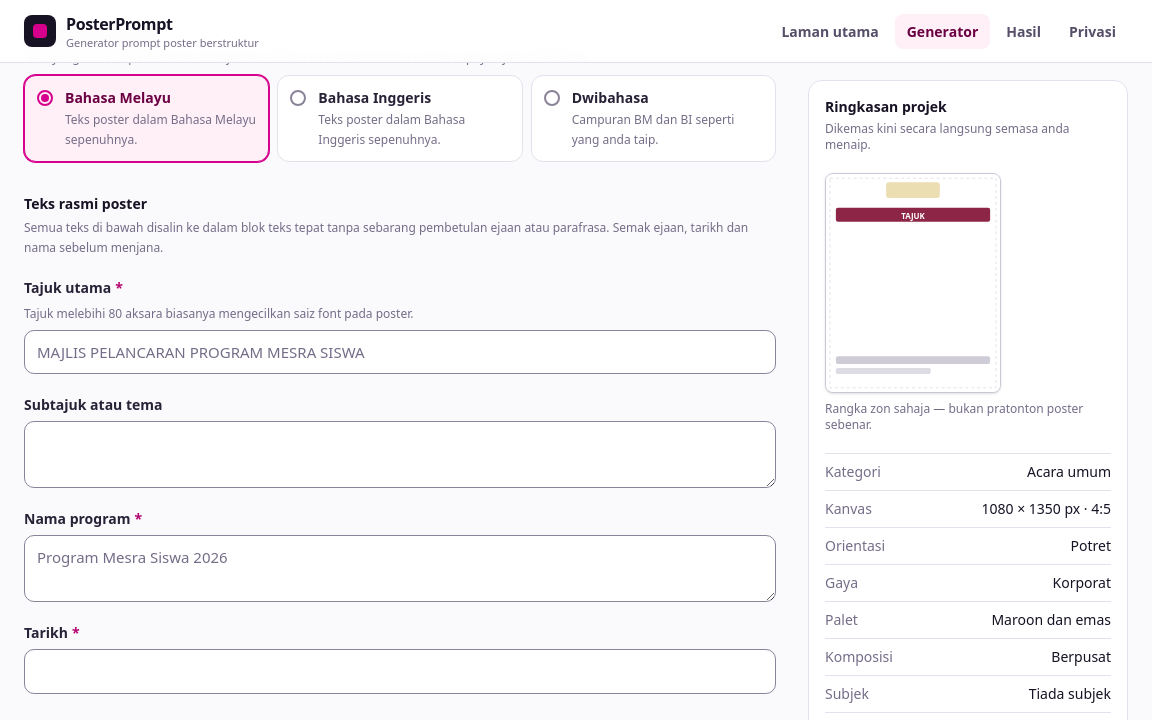
Test: wizard — pratonton zon di langkah susun atur (FR-023) › memaparkan pratonton zon bersebelahan pilihan komposisi
(page scrolled)
Type "MAJLIS PERASMIAN" into the field labelled "Tajuk utama*" at [400, 352], box [24,330,776,374]
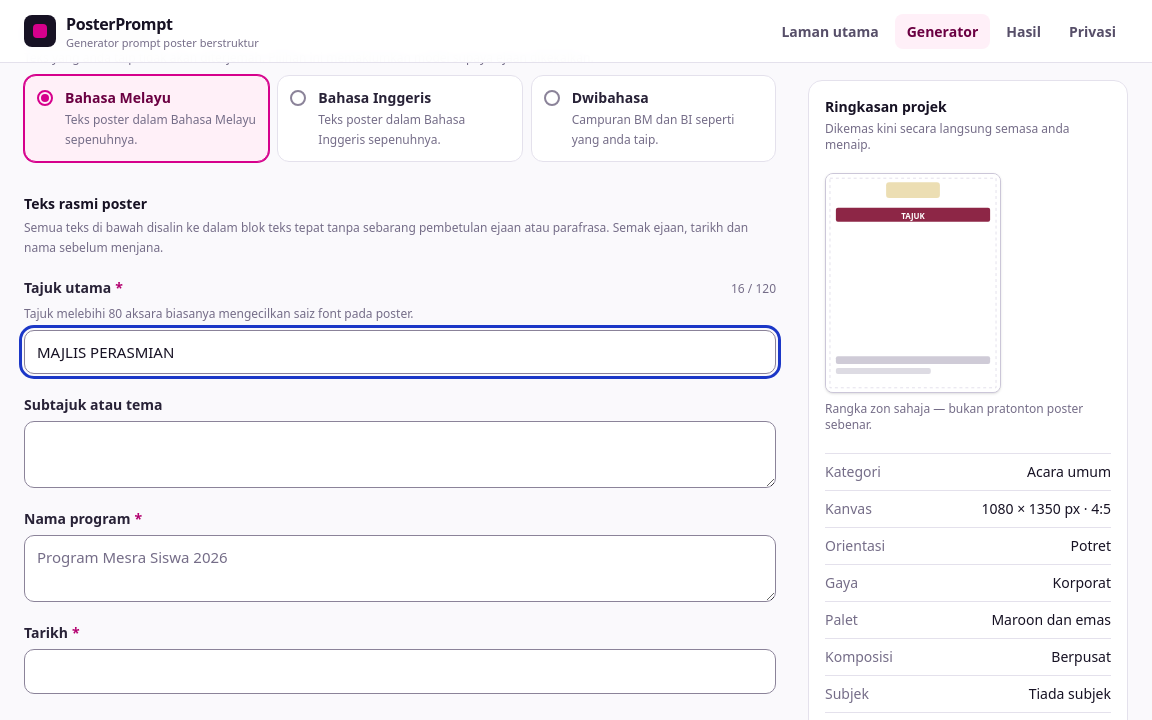
Type "Program Mesra Siswa" into the text box labelled "Nama program*" at [400, 569], box [24,535,776,602]
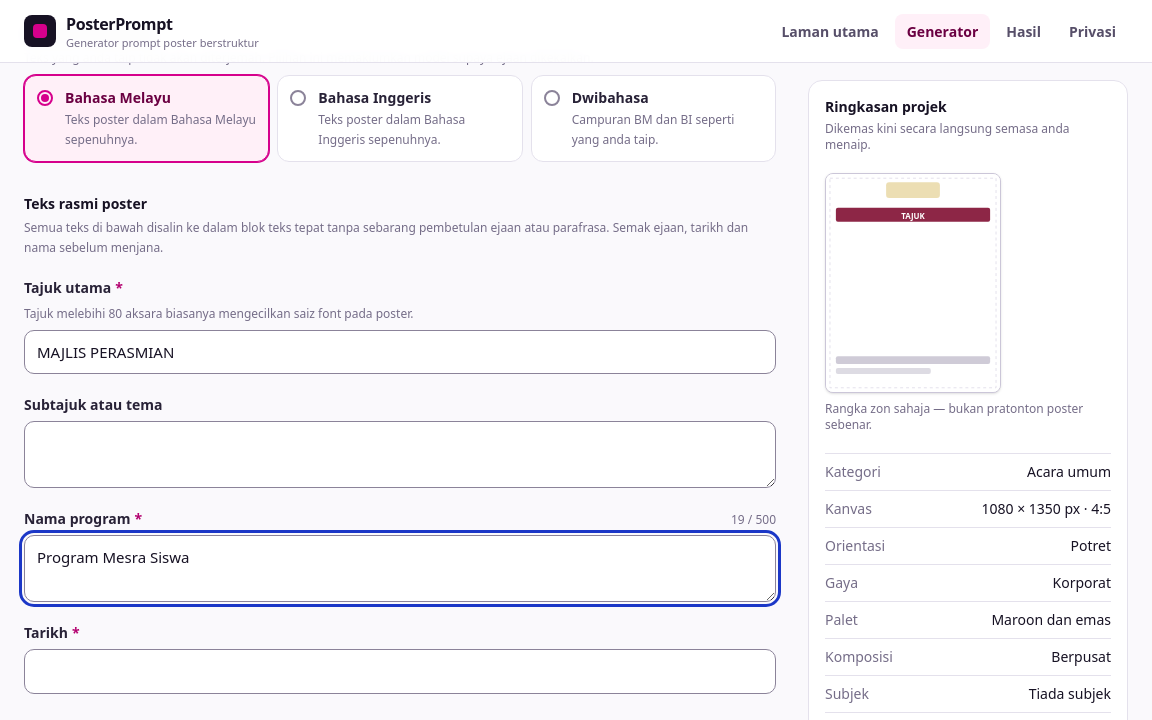
Type "1 September 2026" into the field labelled "Tarikh*" at [400, 672], box [24,649,776,694]
(page scrolled)
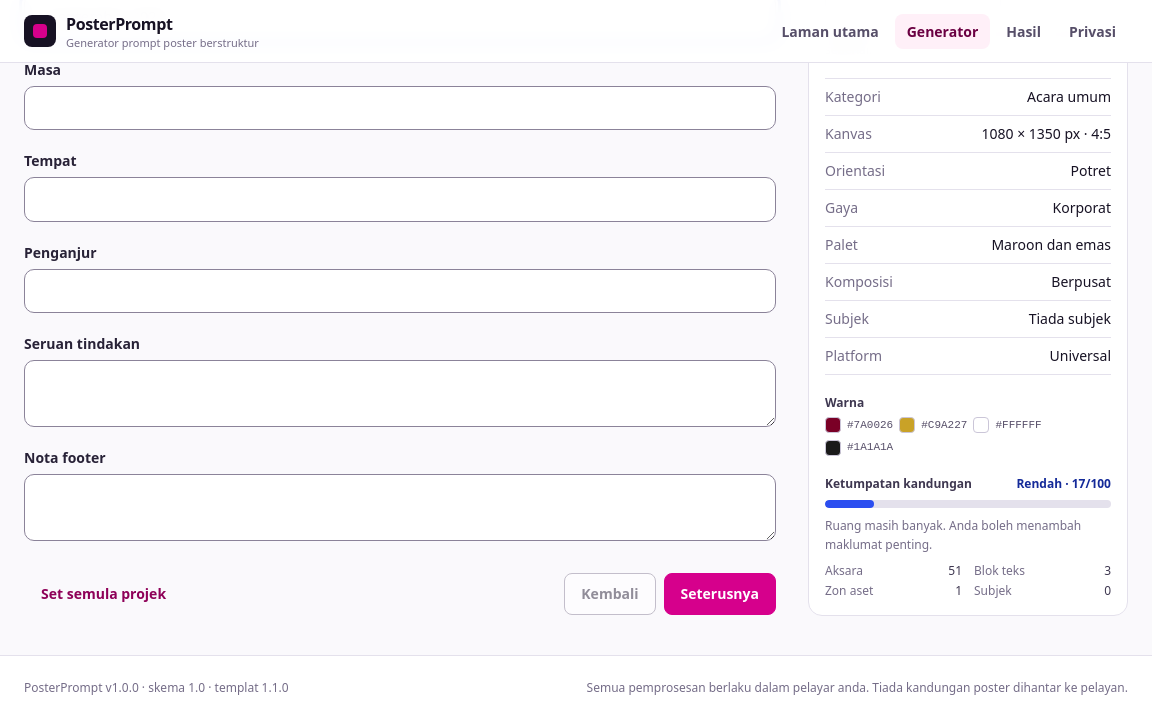
Click the button "Seterusnya" at [720, 594], box [664,573,776,615]
(page scrolled)
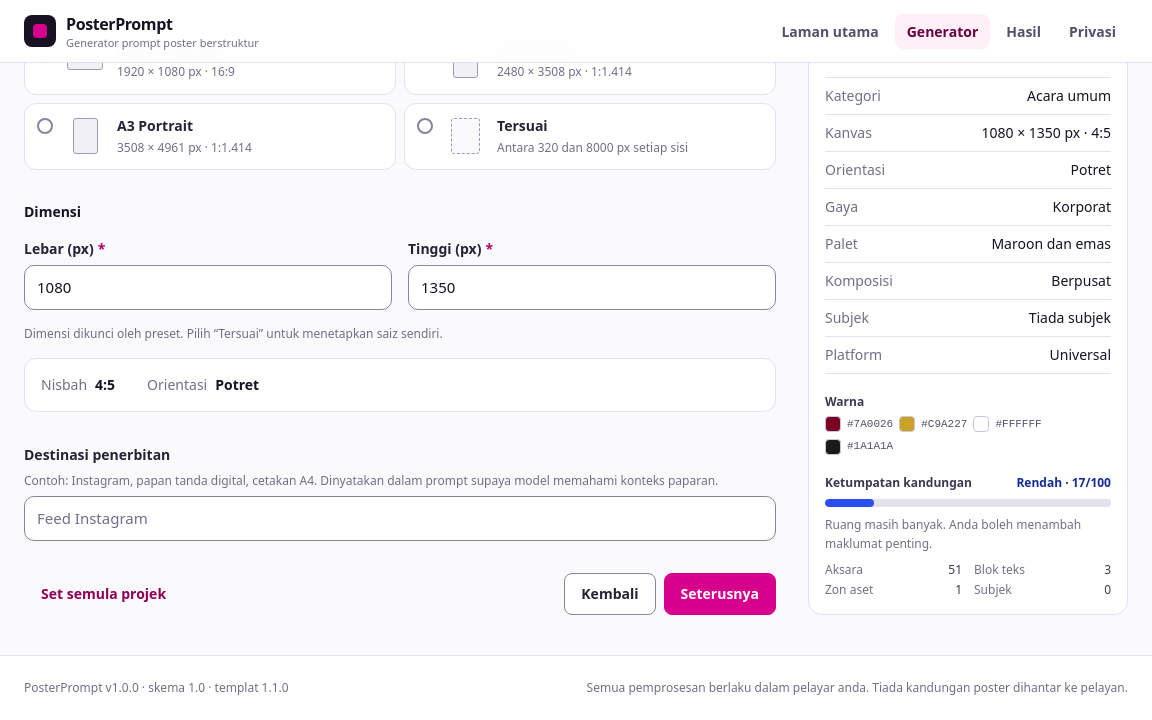
Click the button "Seterusnya" at [720, 594], box [664,573,776,615]
(page scrolled)
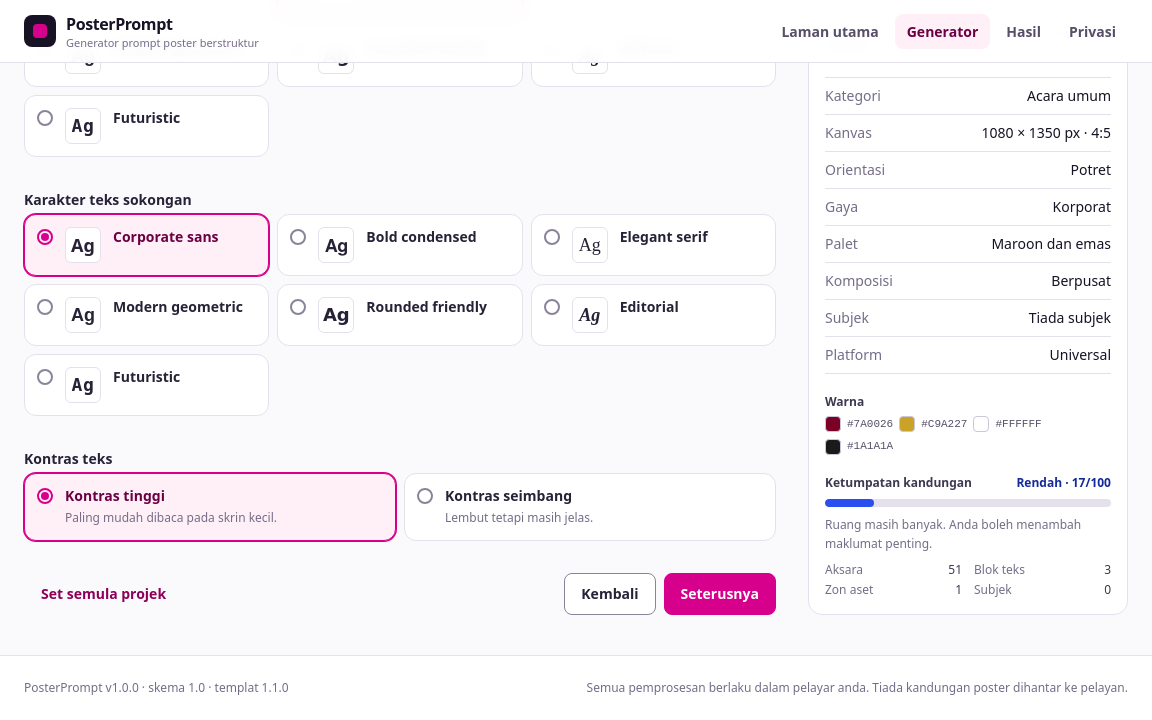
Click the button "Seterusnya" at [720, 594], box [664,573,776,615]
(page scrolled)
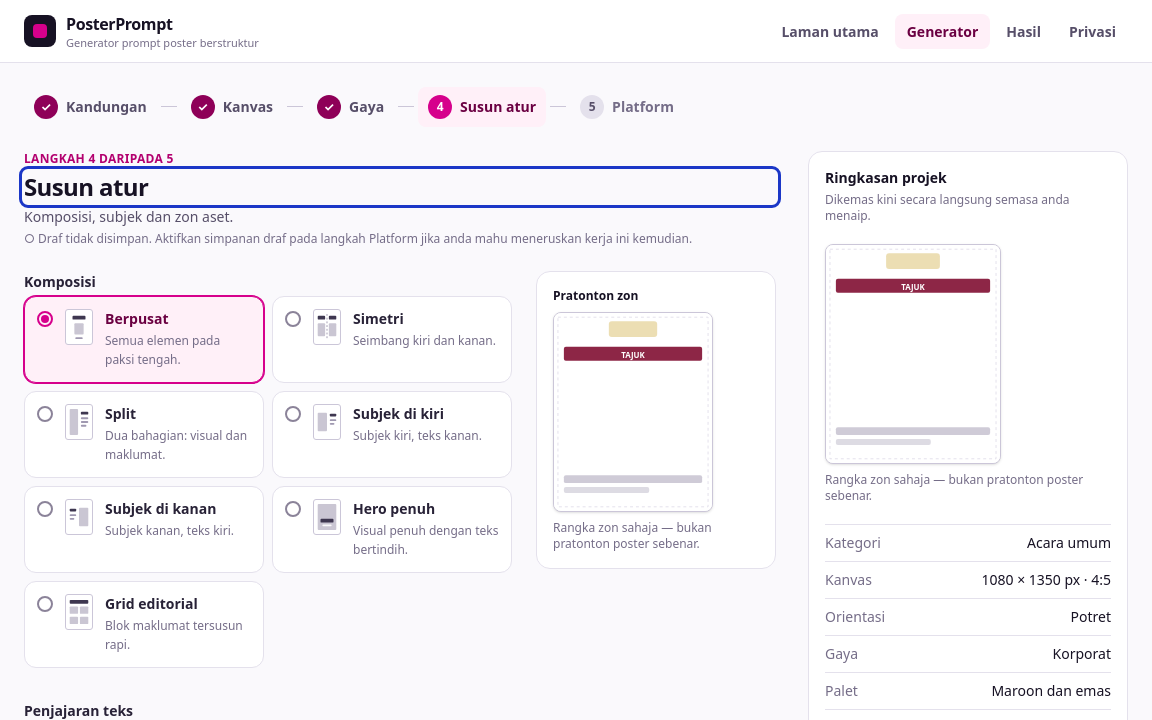
Expected: the picture named "Rangka susun atur poster" is shown, [553,312,713,512]
Expected: the heading "Susun atur" is shown, [24,170,148,203]
Expected: the heading "Pratonton zon" is shown, [553,288,638,304]
